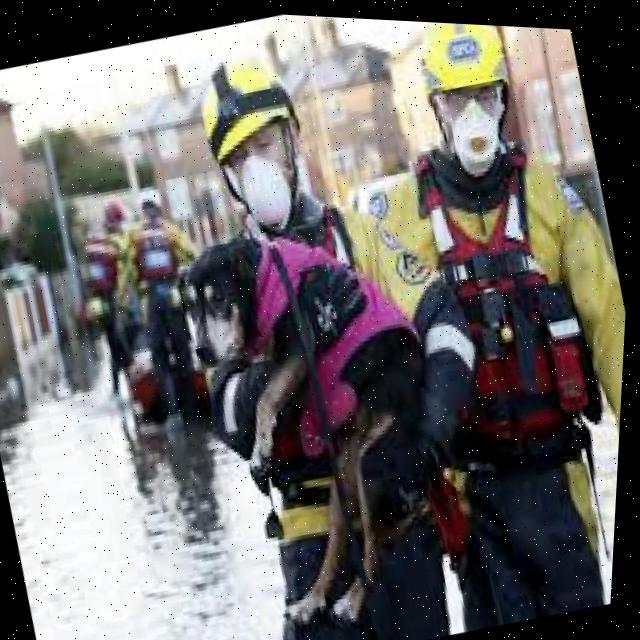dog: (131, 177, 508, 640)
rescuer: (122, 9, 562, 640), (287, 17, 640, 640), (109, 182, 231, 430), (52, 191, 168, 418)
